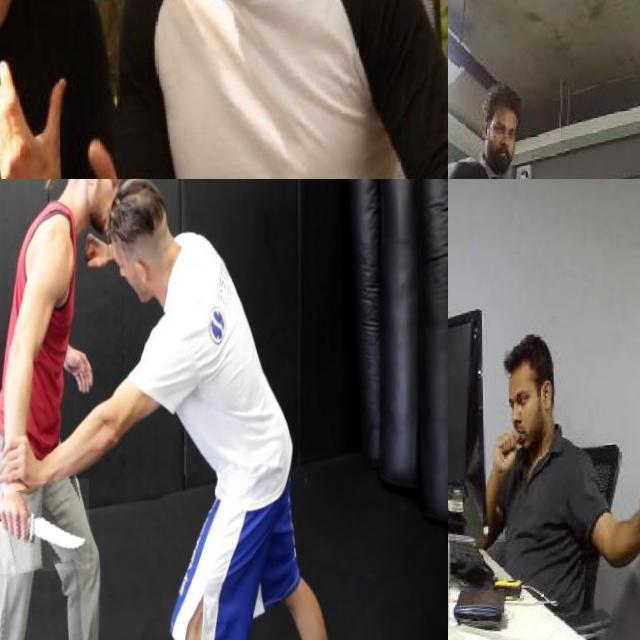-: (0, 482, 88, 577), (0, 13, 42, 162)
